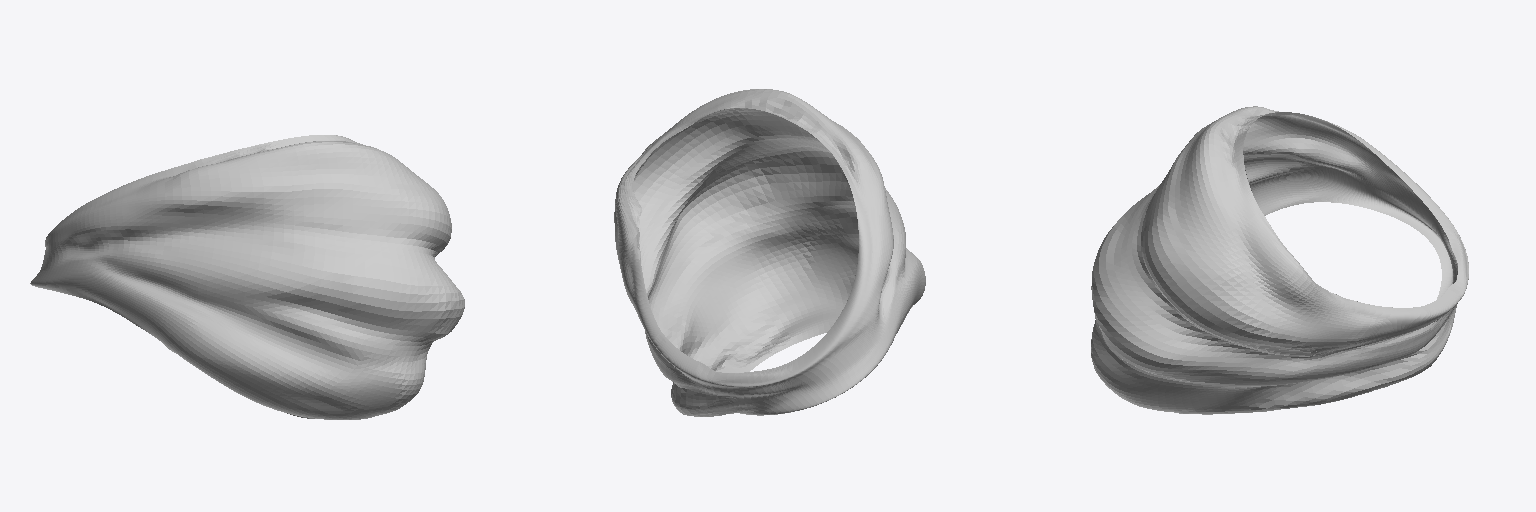
File: Bandage Sculpt_Part 2.OBJ
3 views of the same model, side by side, from view 1: azimuth 30°, elevation 25°; view 2: azimuth 150°, elevation 25°; view 3: azimuth 270°, elevation 25° (orthographic).
Parts seen in each view (by area): view 1: Bandage_Obj; view 2: Bandage_Obj; view 3: Bandage_Obj.
Boxes of the visible parts, x1,y1,x2,y2 form: Bandage_Obj: [30, 135, 464, 419]; Bandage_Obj: [614, 89, 925, 416]; Bandage_Obj: [1091, 106, 1468, 414].
Size of the model in its own units: 2.08 by 1.61 by 2.07.